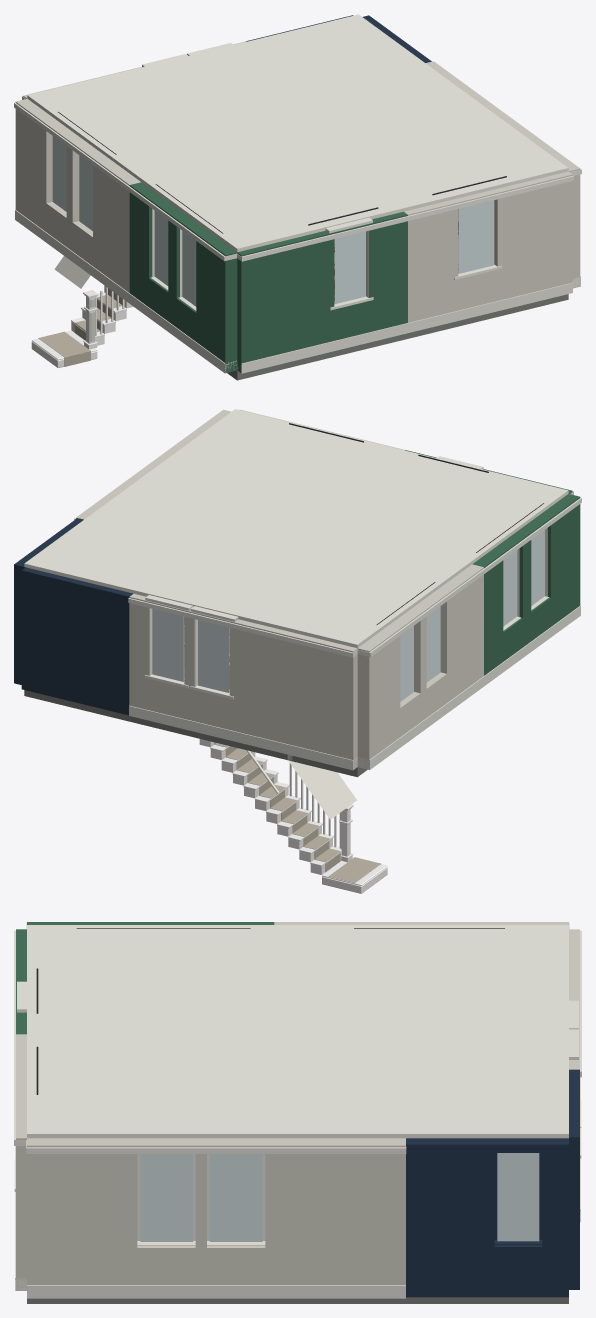
3 views of the same model, one above another, from view 1: azimuth 30°, elevation 25°; view 2: azimuth 150°, elevation 25°; view 3: azimuth 270°, elevation 25° (orthographic). The views are drawn at different scales.
Parts seen in each view (by area): view 1: Upstairs/Front guest crown.001, Upstairs/Front guest.016, Upstairs/Front green bedroom.016, Upstairs/Front sash 0 glass.001, Upstairs/Front guest base.001, Upstairs/Stair outer wall ledge substrate.001, Upstairs/Source Entry/Baluster 0 0.001, Upstairs/Source Entry/Lower landing runner.001, Upstairs/Source Entry/Lower landing tread.001, Upstairs/Rear bathroom.010, Upstairs/Bathroom fine black border driveway wall.001; view 2: Upstairs/Front guest crown.001, Upstairs/Front guest.016, Upstairs/Rear bathroom.010, Upstairs/Front green bedroom.016, Upstairs/Front sash 0 glass.001, Upstairs/Front guest base.001, Upstairs/Source Entry/Baluster 0 0.001, Upstairs/Source Entry/Lower landing runner.001, Upstairs/Stair outer wall ledge substrate.001, Upstairs/Source Entry/Lower landing tread.001; view 3: Upstairs/Front guest crown.001, Upstairs/Front guest.016, Upstairs/Rear bathroom.010, Upstairs/Front sash 0 glass.001, Upstairs/Front guest base.001, Upstairs/Stair outer wall ledge substrate.001, Upstairs/Front green bedroom.016, Upstairs/Bathroom fine black border driveway wall.001.
Boxes of the visible parts, x1,y1,x2,y2 form: Upstairs/Front guest crown.001: (14, 14, 581, 261); Upstairs/Front guest.016: (15, 41, 580, 322); Upstairs/Front green bedroom.016: (129, 182, 407, 373); Upstairs/Front sash 0 glass.001: (52, 136, 494, 306); Upstairs/Front guest base.001: (15, 43, 580, 373); Upstairs/Stair outer wall ledge substrate.001: (227, 294, 568, 380); Upstairs/Source Entry/Baluster 0 0.001: (31, 285, 133, 367); Upstairs/Source Entry/Lower landing runner.001: (38, 288, 122, 366); Upstairs/Source Entry/Lower landing tread.001: (32, 292, 126, 360); Upstairs/Rear bathroom.010: (246, 15, 431, 62); Upstairs/Bathroom fine black border driveway wall.001: (58, 112, 506, 233); Upstairs/Front guest crown.001: (24, 409, 581, 657); Upstairs/Front guest.016: (76, 409, 483, 819); Upstairs/Rear bathroom.010: (14, 518, 132, 715); Upstairs/Front green bedroom.016: (405, 450, 580, 675); Upstairs/Front sash 0 glass.001: (152, 530, 544, 701); Upstairs/Front guest base.001: (129, 456, 580, 793); Upstairs/Source Entry/Baluster 0 0.001: (199, 739, 387, 893); Upstairs/Source Entry/Lower landing runner.001: (214, 742, 381, 882); Upstairs/Stair outer wall ledge substrate.001: (24, 690, 367, 777); Upstairs/Source Entry/Lower landing tread.001: (210, 744, 387, 885); Upstairs/Front guest crown.001: (14, 922, 581, 1153); Upstairs/Front guest.016: (16, 922, 579, 1290); Upstairs/Rear bathroom.010: (406, 1069, 579, 1297); Upstairs/Front sash 0 glass.001: (140, 1153, 539, 1241); Upstairs/Front guest base.001: (14, 981, 581, 1298); Upstairs/Stair outer wall ledge substrate.001: (27, 1297, 568, 1303); Upstairs/Front green bedroom.016: (16, 922, 274, 1034); Upstairs/Bathroom fine black border driveway wall.001: (36, 928, 504, 1094).
Bounding box in the file's own units: 7.6 × 5.16 × 8.09.
